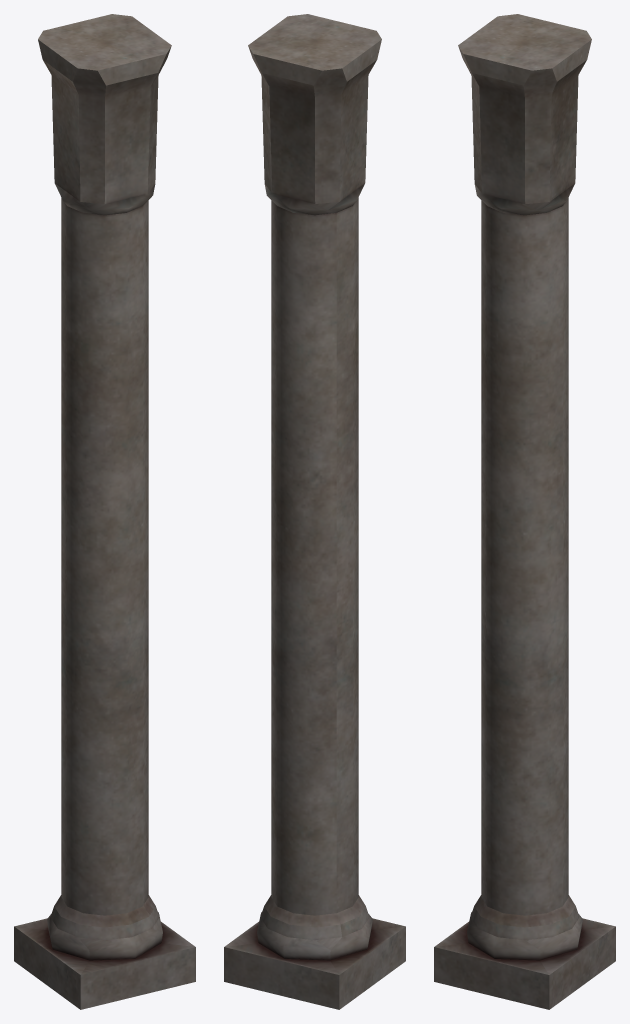
Rendered from sb_obj_outdoor009_AncientTemple_pillar03A_col.fbx.
The picture shows the model from 3 angles, left to right: view 1: azimuth 30°, elevation 25°; view 2: azimuth 150°, elevation 25°; view 3: azimuth 330°, elevation 25°; orthographic projection.
Parts seen in each view (by area): view 1: sb_obj_outdoor009_AncientTemple_pillar03A_col; view 2: sb_obj_outdoor009_AncientTemple_pillar03A_col; view 3: sb_obj_outdoor009_AncientTemple_pillar03A_col.
Part boxes in pixels (x1,y1,x2,y2): sb_obj_outdoor009_AncientTemple_pillar03A_col: [14, 14, 195, 1009]; sb_obj_outdoor009_AncientTemple_pillar03A_col: [224, 14, 405, 1009]; sb_obj_outdoor009_AncientTemple_pillar03A_col: [434, 14, 615, 1009].
Size of the model in its own units: 1.04 by 8.01 by 1.04.
